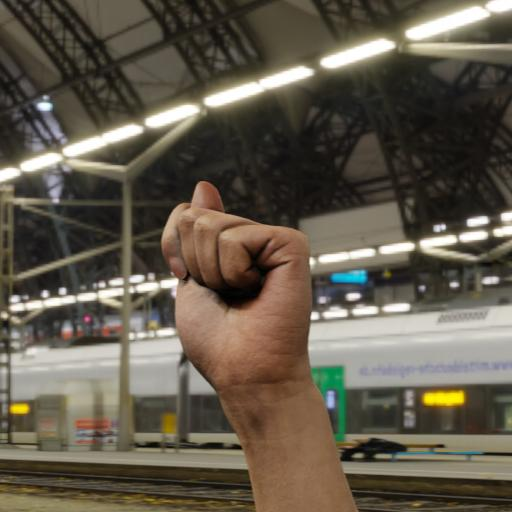T: (139, 166, 368, 502)
